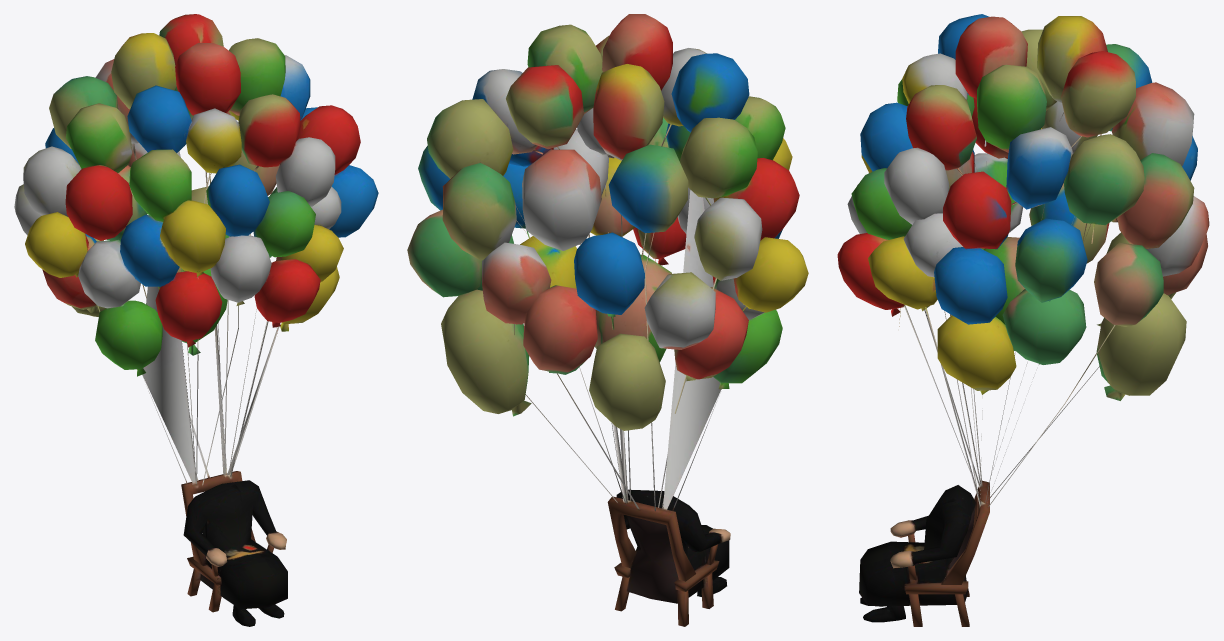
Rendered from padre_balao.glb.
3 renders of one model, left to right at view 1: azimuth 30°, elevation 25°; view 2: azimuth 150°, elevation 25°; view 3: azimuth 270°, elevation 25°, orthographic. The views are drawn at different scales.
Visible parts, largest first — view 1: Rainbow Balloon Priest; view 2: Rainbow Balloon Priest; view 3: Rainbow Balloon Priest.
Boxes of the visible parts, box(x1,y1,x2,y2) form: Rainbow Balloon Priest: box(14, 14, 378, 626); Rainbow Balloon Priest: box(407, 14, 808, 626); Rainbow Balloon Priest: box(837, 14, 1209, 626).
Bounding box in the file's own units: 0.6348 × 0.998 × 0.5723.
Materials: 1 (1 with a texture image).
